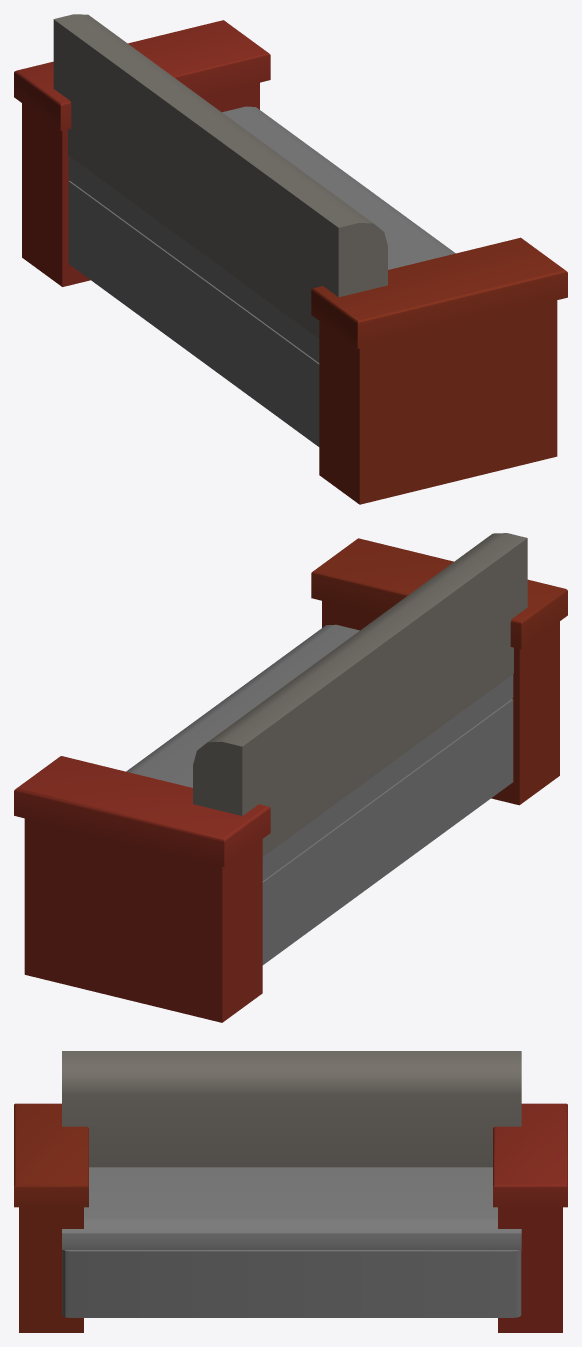
The model's file is sofaN.glb.
The picture shows the model from 3 angles, top to bottom: view 1: azimuth 30°, elevation 25°; view 2: azimuth 150°, elevation 25°; view 3: azimuth 270°, elevation 25°; orthographic projection. The views are drawn at different scales.
Parts seen in each view (by area): view 1: Cube.002, Cube.003, Cube, Cube.004; view 2: Cube.004, Cube.003, Cube, Cube.002; view 3: Cube, Cube.003, Cube.002, Cube.004.
Boxes of the visible parts, left/top/right/bottom form: Cube.002: left=311, top=237, right=567, bottom=504; Cube.003: left=53, top=14, right=387, bottom=338; Cube: left=68, top=106, right=455, bottom=446; Cube.004: left=14, top=20, right=270, bottom=286; Cube.004: left=14, top=756, right=270, bottom=1022; Cube.003: left=193, top=533, right=527, bottom=856; Cube: left=126, top=624, right=513, bottom=964; Cube.002: left=311, top=538, right=567, bottom=805; Cube: left=62, top=1167, right=521, bottom=1317; Cube.003: left=62, top=1051, right=521, bottom=1167; Cube.002: left=14, top=1103, right=88, bottom=1332; Cube.004: left=493, top=1103, right=567, bottom=1332.
Size of the model in its own units: 0.6486 by 0.7546 by 1.84.
